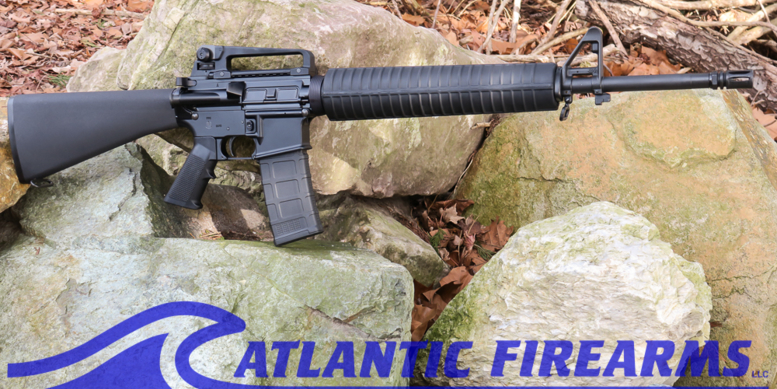Gun: (199, 47, 616, 203)
